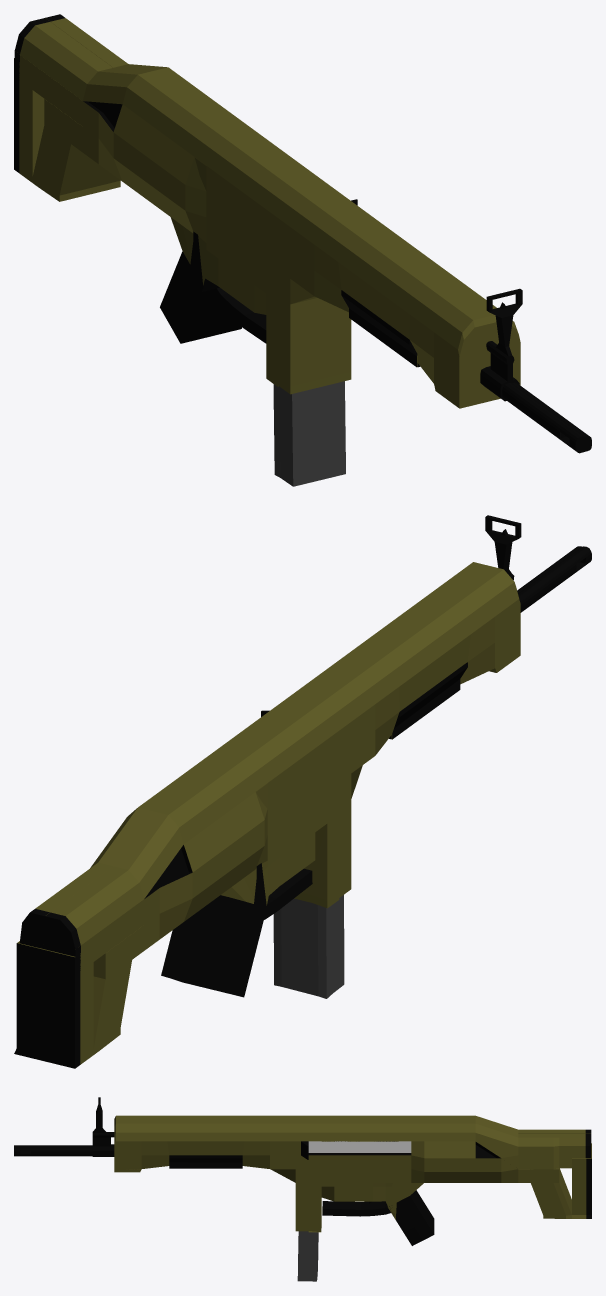
The model's file is Guns6.fbx.
3 renders of one model, top to bottom at view 1: azimuth 30°, elevation 25°; view 2: azimuth 150°, elevation 25°; view 3: azimuth 270°, elevation 25°, orthographic. The views are drawn at different scales.
Visible parts, largest first — view 1: Cube; view 2: Cube; view 3: Cube.
Part boxes in pixels (bbox=[...]): Cube: bbox=[14, 14, 591, 486]; Cube: bbox=[14, 515, 591, 1068]; Cube: bbox=[14, 1097, 591, 1281].
Size of the model in its own units: 325 by 1148 by 3467.
